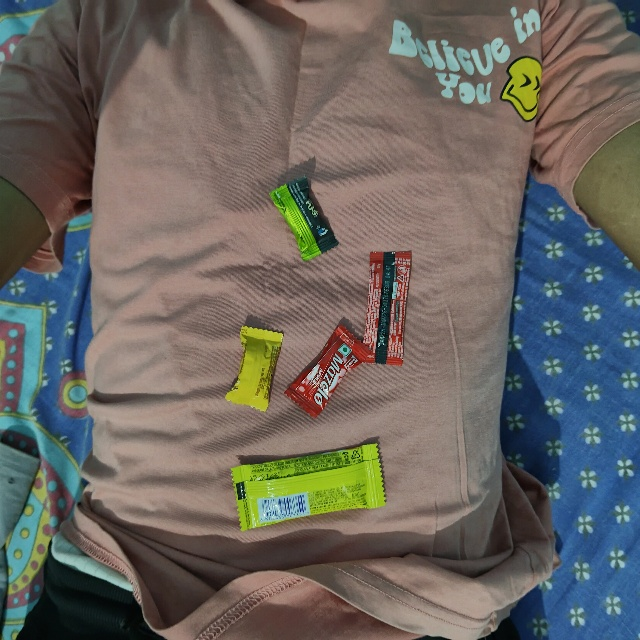Alpenlibe Creamfills: (241, 320, 285, 411)
Mazelo: (342, 317, 384, 415)
Nescafe Coffee: (370, 247, 412, 361)
Orbit: (225, 464, 382, 530)
Pulse: (266, 191, 309, 273)
